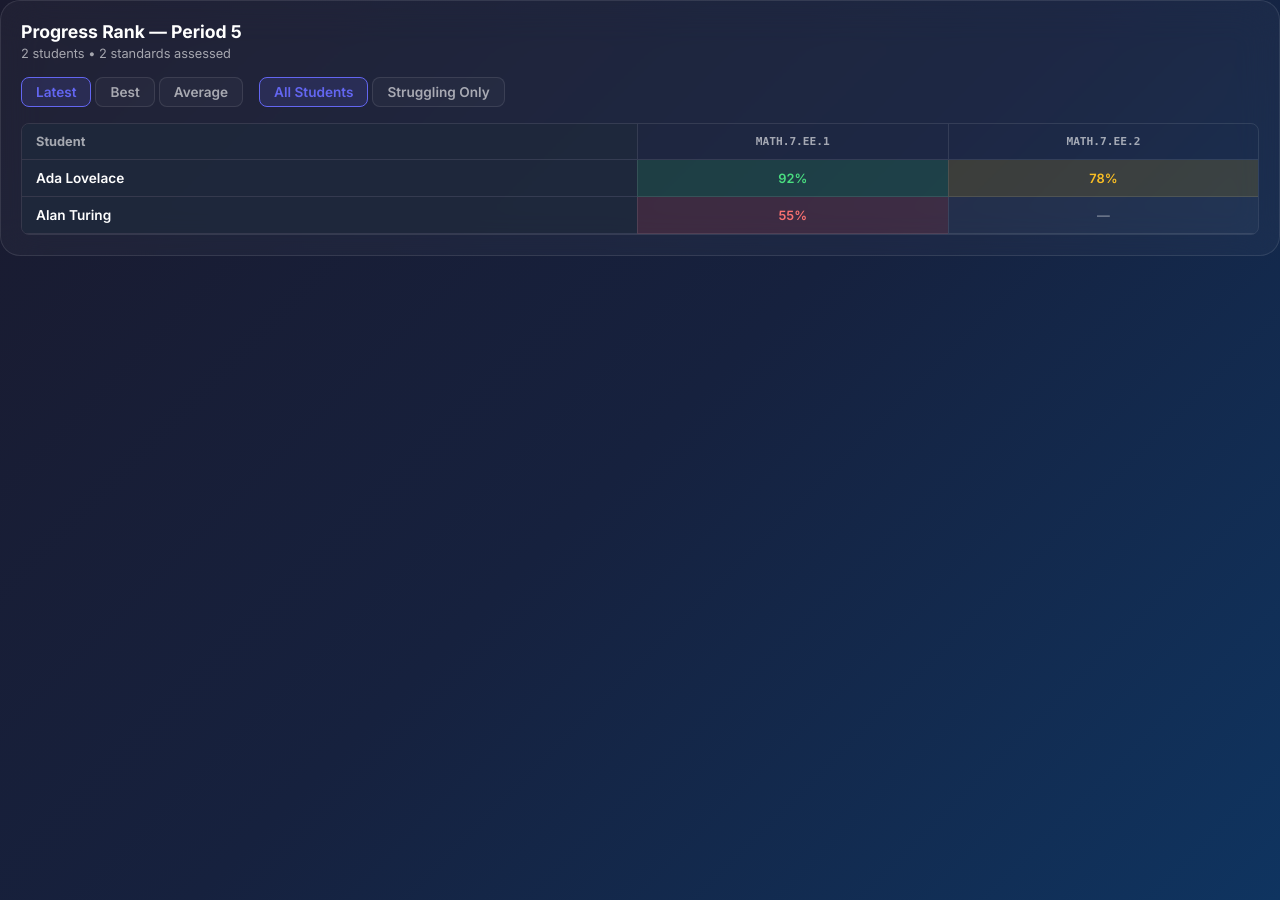
Test: ProgressRankGrid mounts with content from every extracted section › popover "Generate remediation" closes the popover and mounts the drawer
The image size is (1280, 900).
expect the text "Alan Turing" is shown: met, box [22,196,637,234]
expect the text "Remediation: MATH.7.EE.1" is not shown: met
Step 1. Click the button "55%" → (793, 215), box [637,196,948,234]
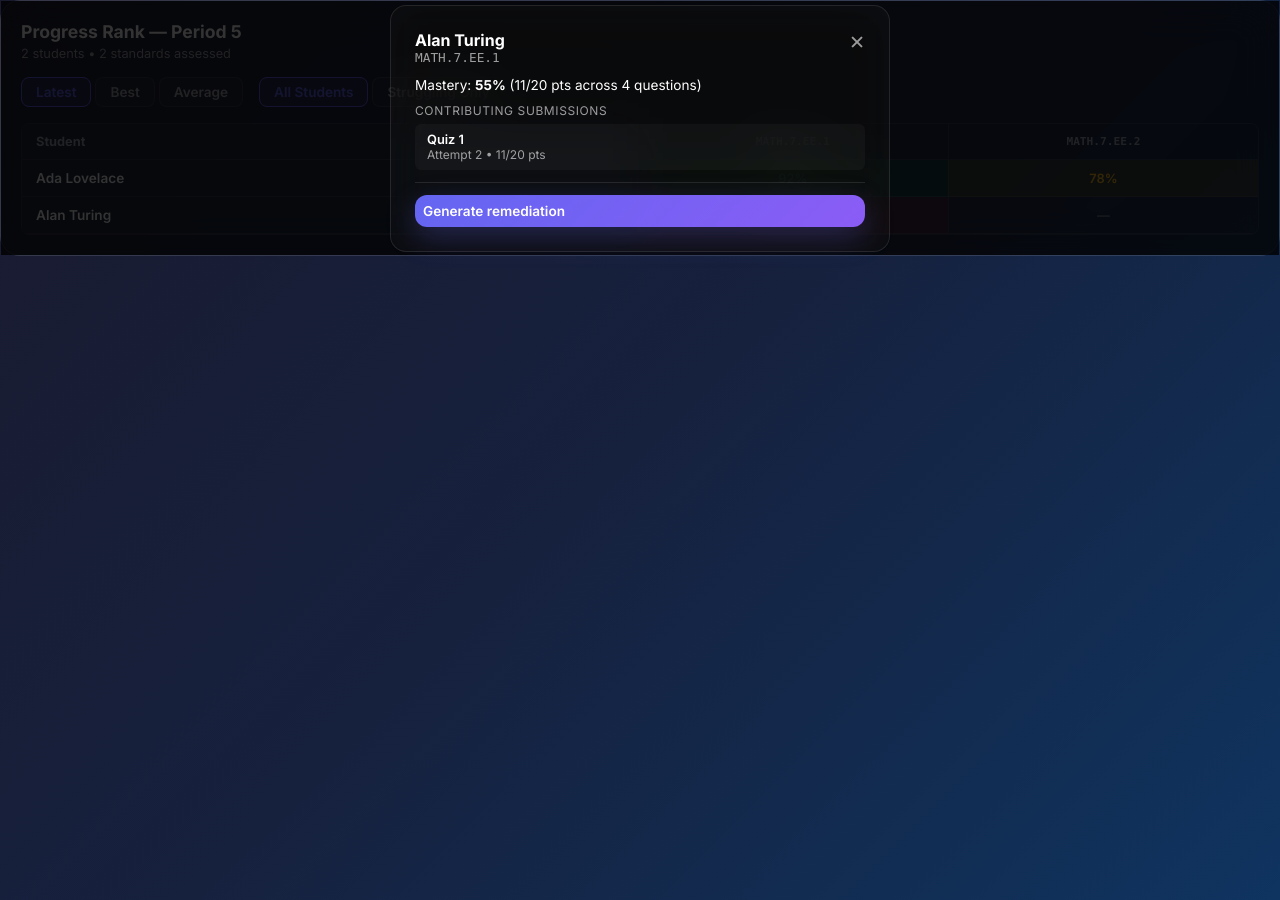
Step 2. Click the button "Generate remediation" → (494, 210), box [415,194,865,226]
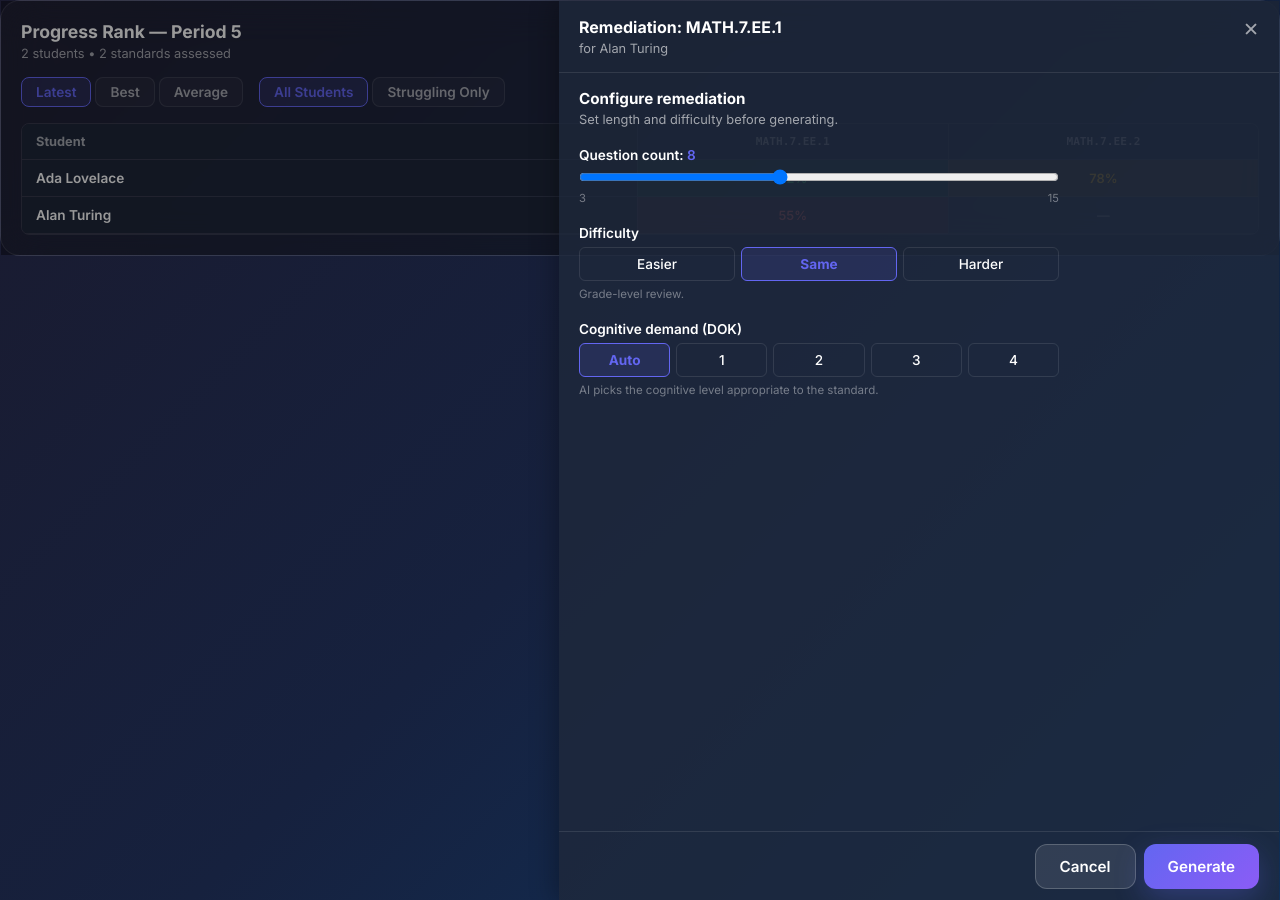
expect the text "Contributing submissions" is gone: met
expect the heading "Remediation: MATH.7.EE.1" is shown: met, box [579,17,782,37]
expect the heading "Configure remediation" is shown: met, box [579,89,746,108]
